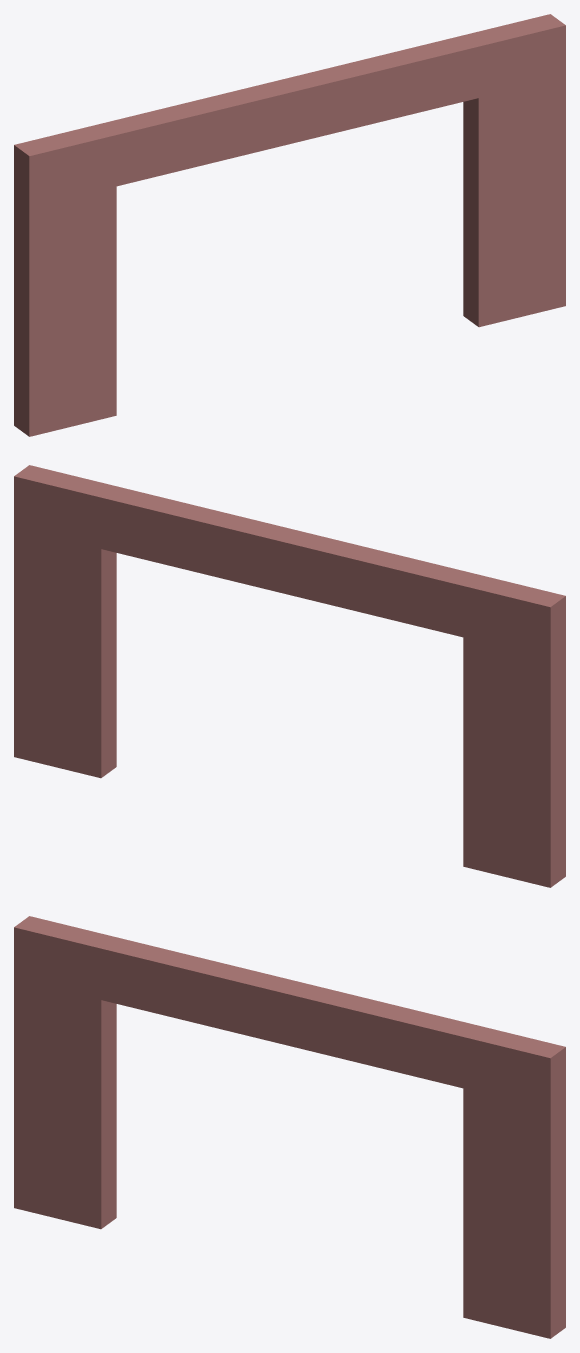
Rendered from wall_6x_door.fbx.
The picture shows the model from 3 angles, top to bottom: view 1: azimuth 30°, elevation 25°; view 2: azimuth 150°, elevation 25°; view 3: azimuth 330°, elevation 25°; orthographic projection.
Parts seen in each view (by area): view 1: Cube; view 2: Cube; view 3: Cube.
Boxes of the visible parts, bbox=[...] form: Cube: bbox=[14, 14, 565, 436]; Cube: bbox=[14, 465, 565, 887]; Cube: bbox=[14, 916, 565, 1338].
Size of the model in its own units: 800 by 400 by 40.
